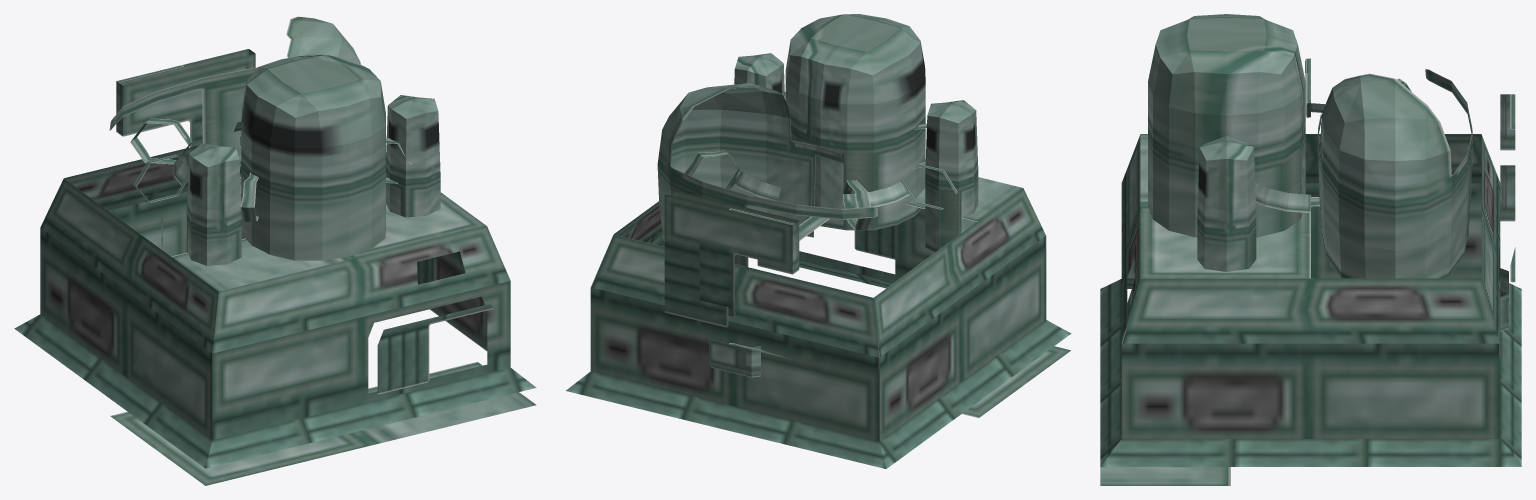
Rendered from Extractor.obj.
The picture shows the model from 3 angles, left to right: view 1: azimuth 30°, elevation 25°; view 2: azimuth 150°, elevation 25°; view 3: azimuth 270°, elevation 25°; orthographic projection. The views are drawn at different scales.
Parts seen in each view (by area): view 1: Extractor_Crusher; view 2: Extractor_Crusher; view 3: Extractor_Crusher.
Part boxes in pixels (box(x1,y1,x2,y2)): Extractor_Crusher: box(14, 16, 536, 485); Extractor_Crusher: box(566, 14, 1071, 468); Extractor_Crusher: box(1100, 14, 1521, 485).
Bounding box in the file's own units: 2 × 1.9 × 2.
